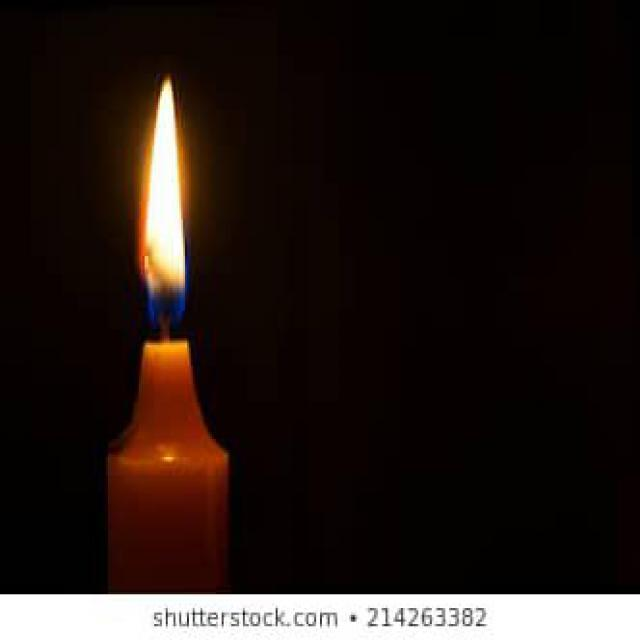Fire: (142, 79, 186, 326)
